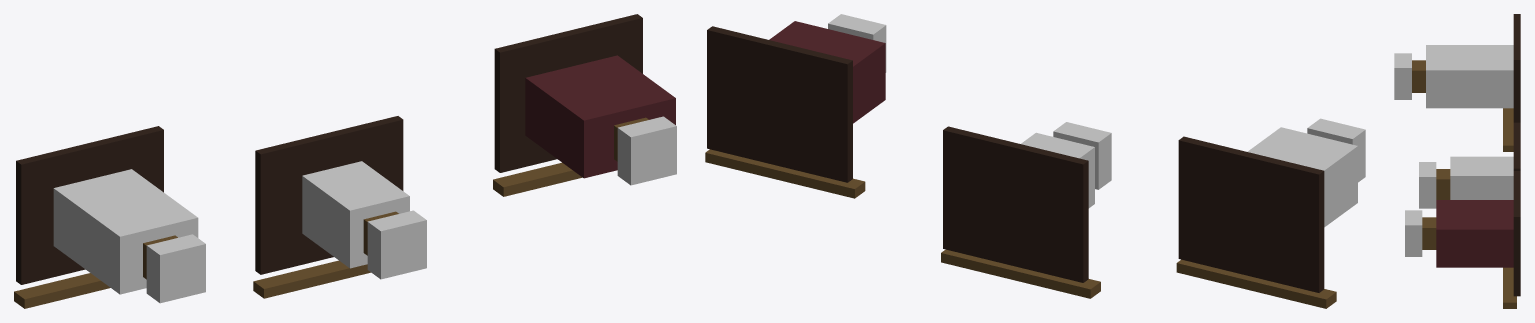
Rendered from SM_BSW_CaseGoods_Perfume_B.obj.
3 views of the same model, side by side, from view 1: azimuth 30°, elevation 25°; view 2: azimuth 150°, elevation 25°; view 3: azimuth 270°, elevation 25° (orthographic). The views are drawn at different scales.
Parts seen in each view (by area): view 1: SM_BSW_CaseGoods_Perfume_B; view 2: SM_BSW_CaseGoods_Perfume_B; view 3: SM_BSW_CaseGoods_Perfume_B.
Boxes of the visible parts, x1,y1,x2,y2 form: SM_BSW_CaseGoods_Perfume_B: (14,14,676,308); SM_BSW_CaseGoods_Perfume_B: (705,14,1365,308); SM_BSW_CaseGoods_Perfume_B: (1394,14,1520,308).
Size of the model in its own units: 137 by 38.5 by 36.
